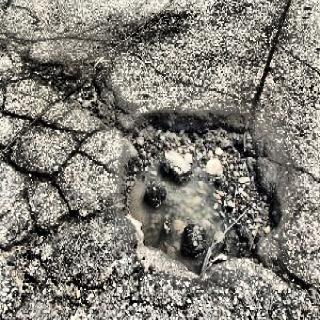alligator-crack: (1, 101, 117, 320)
pothole: (120, 87, 289, 294), (14, 43, 120, 134)
